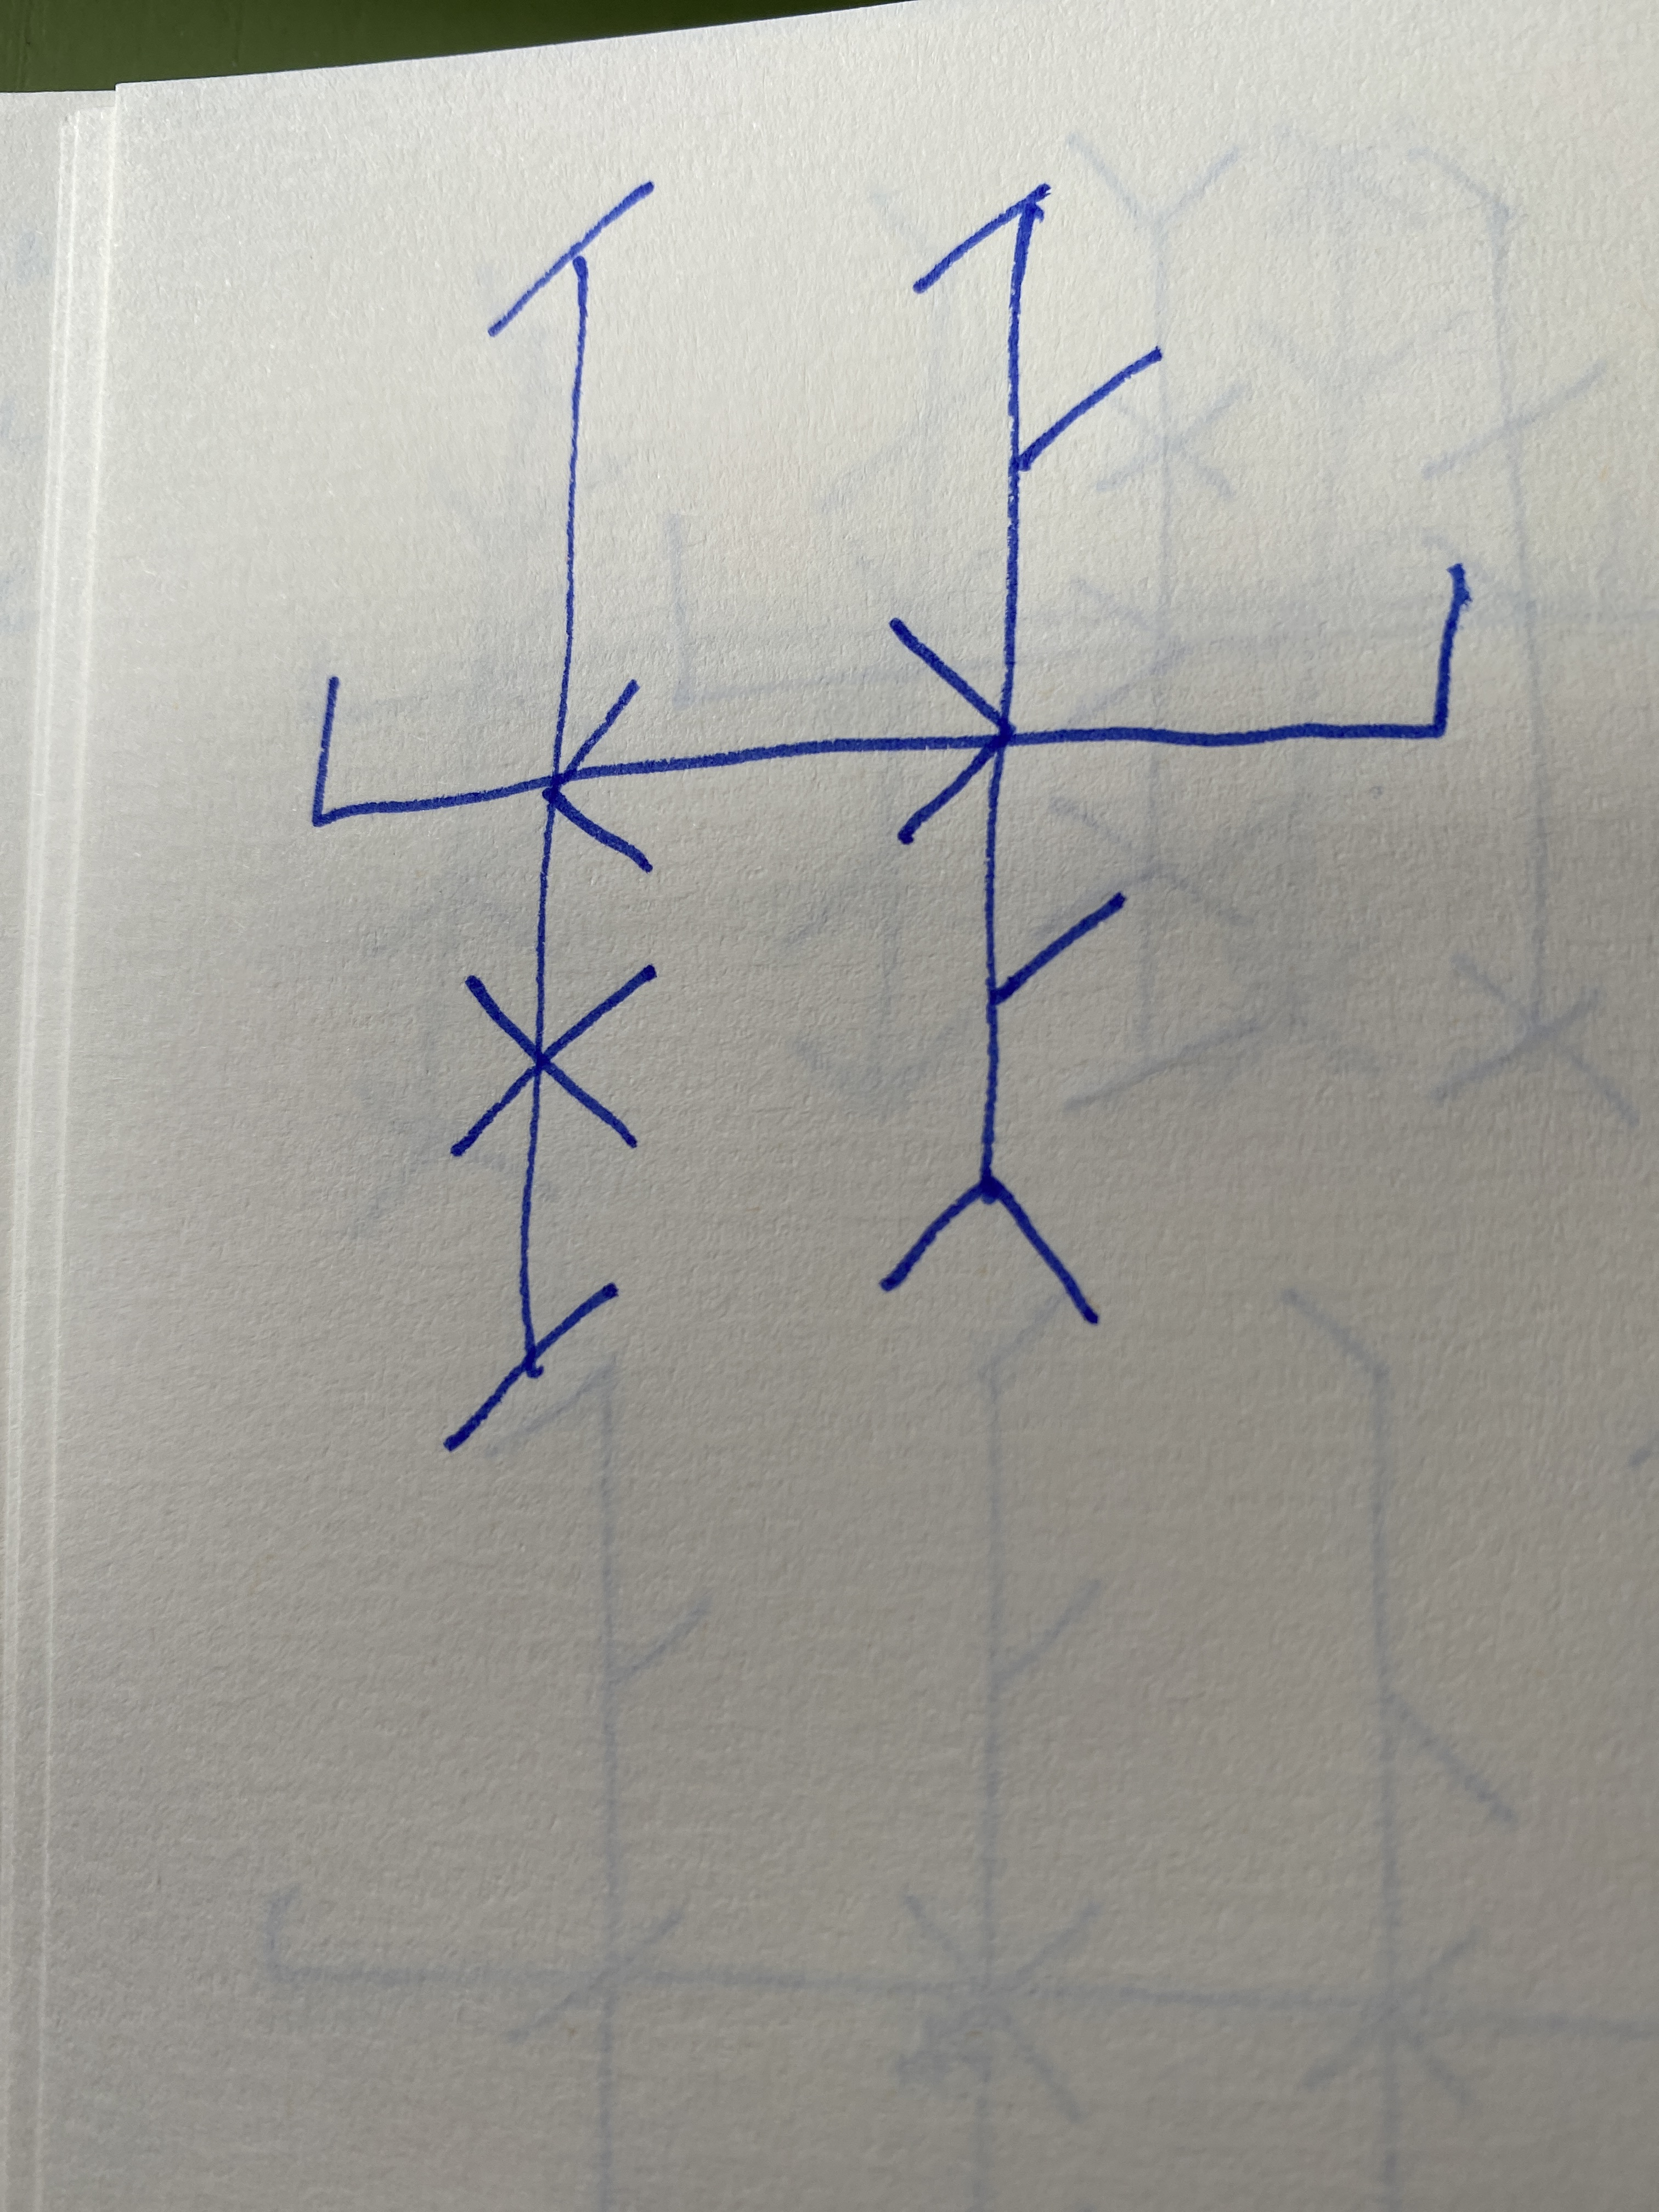Bar: (880, 183, 1164, 1325), (448, 178, 657, 1449)
Barcode: (310, 174, 1474, 1449)
End: (1019, 563, 1476, 747)
Start: (310, 674, 542, 833)
